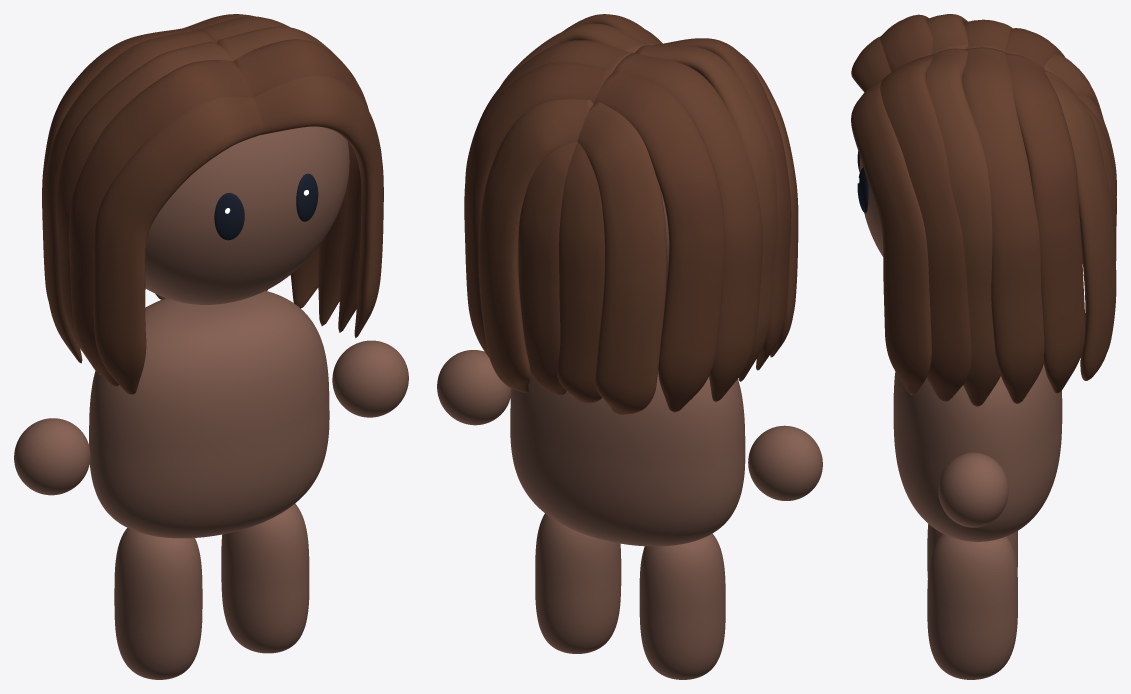
The model's file is Feminine-skin3.glb.
The picture shows the model from 3 angles, left to right: view 1: azimuth 30°, elevation 25°; view 2: azimuth 150°, elevation 25°; view 3: azimuth 270°, elevation 25°; orthographic projection. The views are drawn at different scales.
Visible parts, largest first — view 1: Skin / compact torso with skirt outline, Skin / soft oval head, Hair / Straight -1 0, Hair / Straight -1 1, Skin / leg -1, Skin / leg 1, Hair / Straight 1 0, Hair / Straight 1 1, Hair / Straight -1 2, Hair / Straight -1 3, Skin / hand 1, Skin / hand -1 (+5 smaller); view 2: Skin / compact torso with skirt outline, Hair / Straight -1 4, Hair / Straight -1 5, Hair / Straight -1 3, Hair / Straight 1 5, Skin / leg -1, Hair / Straight -1 6, Skin / leg 1, Hair / Straight 1 6, Hair / Straight 1 4, Hair / Straight -1 2, Hair / Straight -1 1 (+6 smaller); view 3: Skin / compact torso with skirt outline, Hair / Straight 1 3, Hair / Straight 1 4, Hair / Straight 1 1, Hair / Straight 1 0, Skin / leg 1, Hair / Straight 1 2, Hair / Straight 1 5, Skin / hand 1, Hair / Straight -1 1, Hair / Straight -1 0, Hair / Straight -1 4 (+7 smaller).
Boxes of the visible parts, left/top/right/bottom form: Skin / compact torso with skirt outline: left=89, top=291, right=329, bottom=538; Skin / soft oval head: left=145, top=126, right=349, bottom=304; Hair / Straight -1 0: left=93, top=96, right=263, bottom=395; Hair / Straight -1 1: left=69, top=60, right=252, bottom=386; Skin / leg -1: left=114, top=528, right=202, bottom=679; Skin / leg 1: left=221, top=503, right=309, bottom=653; Hair / Straight 1 0: left=253, top=75, right=383, bottom=338; Hair / Straight 1 1: left=233, top=39, right=368, bottom=332; Hair / Straight -1 2: left=56, top=41, right=233, bottom=374; Hair / Straight -1 3: left=42, top=30, right=214, bottom=363; Skin / hand 1: left=332, top=340, right=408, bottom=417; Skin / hand -1: left=14, top=418, right=90, bottom=495; Skin / compact torso with skirt outline: left=510, top=371, right=745, bottom=546; Hair / Straight -1 4: left=594, top=71, right=724, bottom=412; Hair / Straight -1 5: left=577, top=101, right=666, bottom=414; Hair / Straight -1 3: left=613, top=53, right=762, bottom=402; Hair / Straight 1 5: left=478, top=99, right=593, bottom=393; Skin / leg -1: left=639, top=533, right=725, bottom=679; Hair / Straight -1 6: left=557, top=142, right=604, bottom=402; Skin / leg 1: left=535, top=513, right=621, bottom=653; Hair / Straight 1 6: left=518, top=141, right=577, bottom=395; Hair / Straight 1 4: left=464, top=62, right=612, bottom=357; Hair / Straight -1 2: left=635, top=45, right=777, bottom=381; Hair / Straight -1 1: left=653, top=38, right=791, bottom=370; Skin / compact torso with skirt outline: left=893, top=364, right=1062, bottom=541; Hair / Straight 1 3: left=962, top=47, right=1044, bottom=404; Hair / Straight 1 4: left=1005, top=53, right=1085, bottom=393; Hair / Straight 1 1: left=880, top=55, right=971, bottom=401; Hair / Straight 1 0: left=851, top=79, right=931, bottom=394; Skin / leg 1: left=927, top=534, right=1017, bottom=679; Hair / Straight 1 2: left=926, top=48, right=1000, bottom=407; Hair / Straight 1 5: left=1044, top=70, right=1116, bottom=380; Skin / hand 1: left=938, top=452, right=1008, bottom=527; Hair / Straight -1 1: left=880, top=14, right=932, bottom=71; Hair / Straight -1 0: left=851, top=36, right=891, bottom=92; Hair / Straight -1 4: left=1005, top=28, right=1082, bottom=263.
Bounding box in the file's own units: 1.49 × 2.31 × 0.9206.
